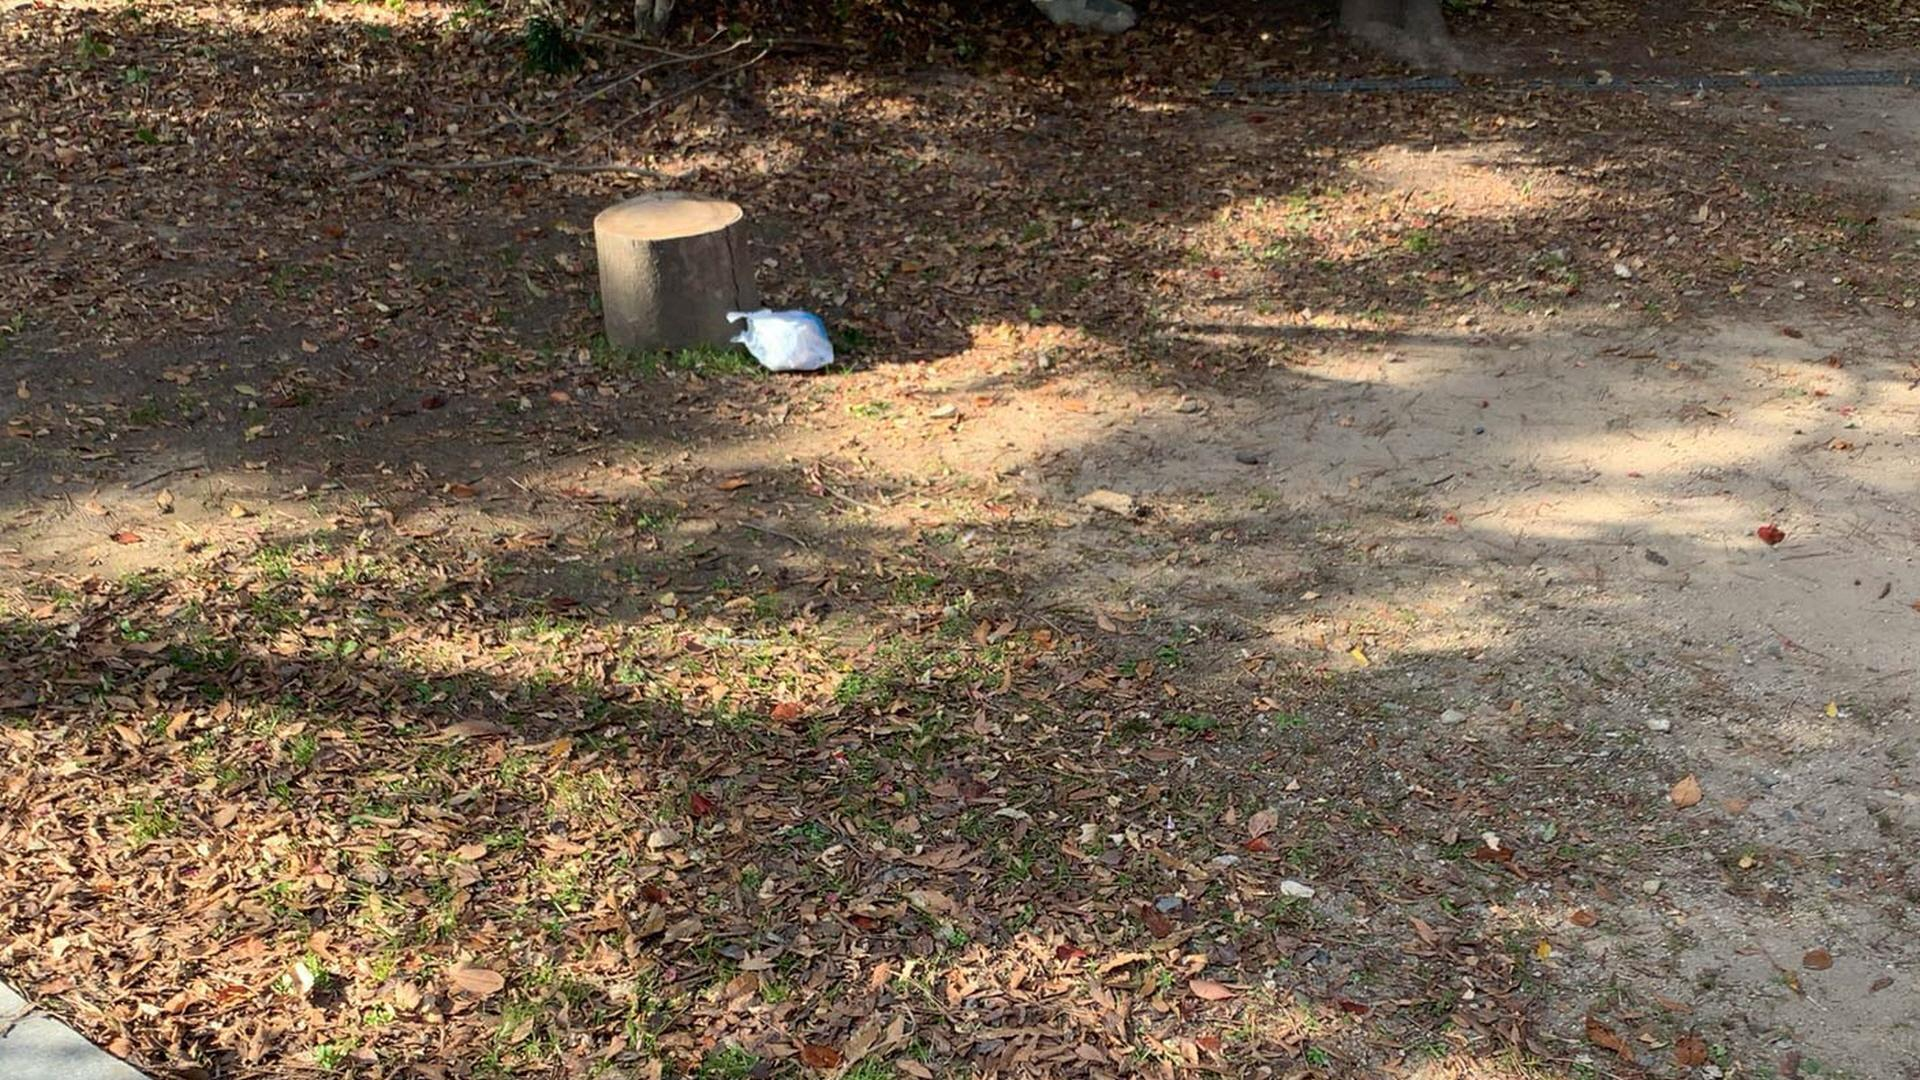white_bag: (721, 303, 840, 376)
